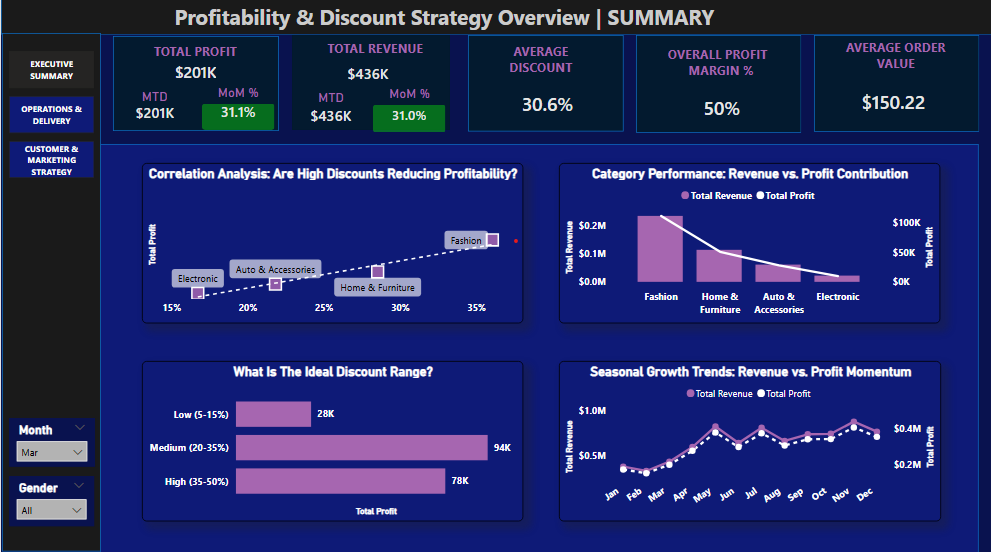

Layout of this report page (visuals, bound fields, positions):
{"tool":"powerbi","page":{"name":"EXECUTIVE SUMMARY","canvas":[1280,720],"ordinal":0},"visuals":[{"type":"shape","box":[376.4,51.8,204.2,122.7],"z":0,"group":"g3"},{"type":"shape","box":[818.8,51.8,213.4,126.2],"z":0,"group":"g10"},{"type":"shape","box":[1048.7,51.9,213.4,124.8],"z":0,"group":"g13"},{"type":"shape","box":[601.9,52.1,200.8,124.6],"z":0,"group":"g14"},{"type":"shape","box":[144.9,53.2,214,122.6],"z":0,"group":"g2"},{"type":"group","id":"g1","title":"Group 1","box":[127.6,192.7,1133.8,527.7],"z":500},{"type":"shape","box":[0,0,1280,51.2],"z":1000},{"type":"cardVisual","fields":{"Data":["All Measures.Total Revenue"]},"box":[407.5,80.8,134.2,50.9],"z":1000,"group":"g3"},{"type":"cardVisual","fields":{"Data":["All Measures.Total Profit"]},"box":[176.3,82.7,151.2,30.6],"z":1000,"group":"g2"},{"type":"cardVisual","fields":{"Data":["All Measures.AOV"]},"box":[1080.4,110.1,140.4,53.3],"z":1000,"group":"g13"},{"type":"cardVisual","fields":{"Data":["All Measures.Average Discount"]},"box":[636.2,115.6,135.3,48.6],"z":1000,"group":"g14"},{"type":"cardVisual","fields":{"Data":["All Measures.Overall Profit Margin"]},"box":[859.2,118.9,141.8,49.6],"z":1000,"group":"g10"},{"type":"shape","box":[127.6,192.7,1133.8,527.7],"z":1500,"group":"g1"},{"type":"shape","box":[1.4,49.6,127.6,669],"z":2000},{"type":"textbox","box":[1067.3,51.8,175,71.3],"z":2000,"group":"g13"},{"type":"textbox","box":[407.5,52.6,152.9,35.3],"z":2000,"group":"g3"},{"type":"textbox","box":[613.7,57.3,164.9,66.6],"z":2000,"group":"g14"},{"type":"textbox","box":[177.7,57.5,148.4,33.2],"z":2000,"group":"g2"},{"type":"textbox","box":[831.9,60.4,189.2,62.2],"z":2000,"group":"g10"},{"type":"textbox","box":[157.9,5.7,829.2,45.5],"z":3000},{"type":"cardVisual","title":"MTD","fields":{"Data":["All Measures.MTD PROFIT"]},"box":[144.9,121.2,108.1,59.3],"z":3000,"group":"g2"},{"type":"cardVisual","title":"MTD","fields":{"Data":["All Measures.MTD Revenue"]},"box":[374.8,123.4,103.5,62.7],"z":3000,"group":"g3"},{"type":"group","id":"g2","title":"Group 1","box":[144.9,53.2,214,127.6],"z":4000},{"type":"cardVisual","title":"MoM %","fields":{"Data":["All Measures.MoM Profit %"]},"box":[254.5,116.8,104.2,64],"z":4000,"group":"g2"},{"type":"cardVisual","title":"MoM %","fields":{"Data":["All Measures.MoM Revenue %"]},"box":[476.1,117.4,104.8,65.2],"z":4000,"group":"g3"},{"type":"group","id":"g3","title":"Group 2","box":[374.8,51.8,206,134.2],"z":4002,"group":"g7"},{"type":"group","id":"g4","title":"Group 2","box":[818.8,51.8,213.4,126.2],"z":4002,"group":"g8"},{"type":"group","id":"g5","title":"Group 2","box":[1048.7,51.8,213.4,124.9],"z":4002,"group":"g9"},{"type":"group","id":"g6","title":"Group 2","box":[601.9,52.1,194.1,123.6],"z":4002,"group":"g15"},{"type":"group","id":"g7","title":"Group 1","box":[374.8,51.8,206,134.2],"z":5000},{"type":"slicer","title":"Month ","fields":{"Values":["DateTable.Month Name"]},"box":[10.3,545.8,111,63.2],"z":6000},{"type":"group","id":"g8","title":"Group 1","box":[818.8,51.8,212.7,126.3],"z":7000},{"type":"group","id":"g9","title":"Group 1","box":[1048.7,51.8,212.7,124.9],"z":8000},{"type":"group","id":"g10","title":"Group 3","box":[818.8,51.8,213.4,126.2],"z":8001,"group":"g4"},{"type":"group","id":"g11","title":"Group 3","box":[1048.7,51.8,213.4,124.9],"z":8001,"group":"g5"},{"type":"group","id":"g12","title":"Group 3","box":[601.9,52.1,200.8,124.6],"z":8001,"group":"g6"},{"type":"group","id":"g13","title":"Group 4","box":[1048.7,51.8,213.4,124.9],"z":8002,"group":"g11"},{"type":"group","id":"g14","title":"Group 4","box":[601.9,52.1,200.8,124.6],"z":8002,"group":"g12"},{"type":"group","id":"g15","title":"Group 1","box":[601.9,52.1,194.1,123.6],"z":9000},{"type":"scatterChart","title":"Correlation Analysis: Are High Discounts Reducing Profitability?","fields":{"Y":["Sum(public sales_clean.profit)"],"Category":["public sales_clean.product_category"],"X":["All Measures.Average Discount"]},"box":[182.1,216.7,491.8,207.4],"z":11000},{"type":"barChart","title":"What Is The Ideal Discount Range?","fields":{"Y":["Sum(public sales_clean.profit)"],"Category":["public sales_clean.discount_brackets"]},"box":[182.1,471.9,491.8,207.4],"z":12000},{"type":"lineChart","title":"Seasonal Growth Trends: Revenue vs. Profit Momentum","fields":{"Y":["All Measures.Total Revenue"],"Category":["DateTable.Month Name"],"Y2":["All Measures.Total Profit"]},"box":[720.4,471.9,493.1,207.4],"z":13000},{"type":"lineStackedColumnComboChart","title":"Category Performance: Revenue vs. Profit Contribution","fields":{"Category":["public sales_clean.product_category"],"Y":["All Measures.Total Revenue"],"Y2":["All Measures.Total Profit"]},"box":[720.4,216.7,491.8,207.4],"z":14000},{"type":"slicer","title":"Gender","fields":{"Values":["public sales_clean.gender"]},"box":[10.3,620.6,109.7,64.5],"z":15000},{"type":"pageNavigator","box":[10.3,72.3,111,166.5],"z":16000}]}

Visuals, with their boxes in screenshot pixels (x1, y1, x2, y2), scaled from the page's 1280x720 canvas onto the 991x552 screenshot:
shape: [x1=291, y1=40, x2=450, y2=134]
shape: [x1=634, y1=40, x2=799, y2=136]
shape: [x1=812, y1=40, x2=977, y2=135]
shape: [x1=466, y1=40, x2=621, y2=135]
shape: [x1=112, y1=41, x2=278, y2=135]
"Group 1" group: [x1=99, y1=148, x2=977, y2=551]
shape: [x1=0, y1=0, x2=990, y2=39]
cardVisual - All Measures.Total Revenue: [x1=315, y1=62, x2=419, y2=101]
cardVisual - All Measures.Total Profit: [x1=136, y1=63, x2=254, y2=87]
cardVisual - All Measures.AOV: [x1=836, y1=84, x2=945, y2=125]
cardVisual - All Measures.Average Discount: [x1=493, y1=89, x2=597, y2=126]
cardVisual - All Measures.Overall Profit Margin: [x1=665, y1=91, x2=775, y2=129]
shape: [x1=99, y1=148, x2=977, y2=551]
shape: [x1=1, y1=38, x2=100, y2=551]
textbox: [x1=826, y1=40, x2=962, y2=94]
textbox: [x1=315, y1=40, x2=434, y2=67]
textbox: [x1=475, y1=44, x2=603, y2=95]
textbox: [x1=138, y1=44, x2=252, y2=70]
textbox: [x1=644, y1=46, x2=791, y2=94]
textbox: [x1=122, y1=4, x2=764, y2=39]
"MTD" cardVisual: [x1=112, y1=93, x2=196, y2=138]
"MTD" cardVisual: [x1=290, y1=95, x2=370, y2=143]
"Group 1" group: [x1=112, y1=41, x2=278, y2=139]
"MoM %" cardVisual: [x1=197, y1=90, x2=278, y2=139]
"MoM %" cardVisual: [x1=369, y1=90, x2=450, y2=140]
"Group 2" group: [x1=290, y1=40, x2=450, y2=143]
"Group 2" group: [x1=634, y1=40, x2=799, y2=136]
"Group 2" group: [x1=812, y1=40, x2=977, y2=135]
"Group 2" group: [x1=466, y1=40, x2=616, y2=135]
"Group 1" group: [x1=290, y1=40, x2=450, y2=143]
"Month " slicer: [x1=8, y1=418, x2=94, y2=467]
"Group 1" group: [x1=634, y1=40, x2=799, y2=137]
"Group 1" group: [x1=812, y1=40, x2=977, y2=135]
"Group 3" group: [x1=634, y1=40, x2=799, y2=136]
"Group 3" group: [x1=812, y1=40, x2=977, y2=135]
"Group 3" group: [x1=466, y1=40, x2=621, y2=135]
"Group 4" group: [x1=812, y1=40, x2=977, y2=135]
"Group 4" group: [x1=466, y1=40, x2=621, y2=135]
"Group 1" group: [x1=466, y1=40, x2=616, y2=135]
"Correlation Analysis: Are High Discounts Reducing Profitability?" scatterChart: [x1=141, y1=166, x2=522, y2=325]
"What Is The Ideal Discount Range?" barChart: [x1=141, y1=362, x2=522, y2=521]
"Seasonal Growth Trends: Revenue vs. Profit Momentum" lineChart: [x1=558, y1=362, x2=940, y2=521]
"Category Performance: Revenue vs. Profit Contribution" lineStackedColumnComboChart: [x1=558, y1=166, x2=939, y2=325]
"Gender" slicer: [x1=8, y1=476, x2=93, y2=525]
pageNavigator: [x1=8, y1=55, x2=94, y2=183]
